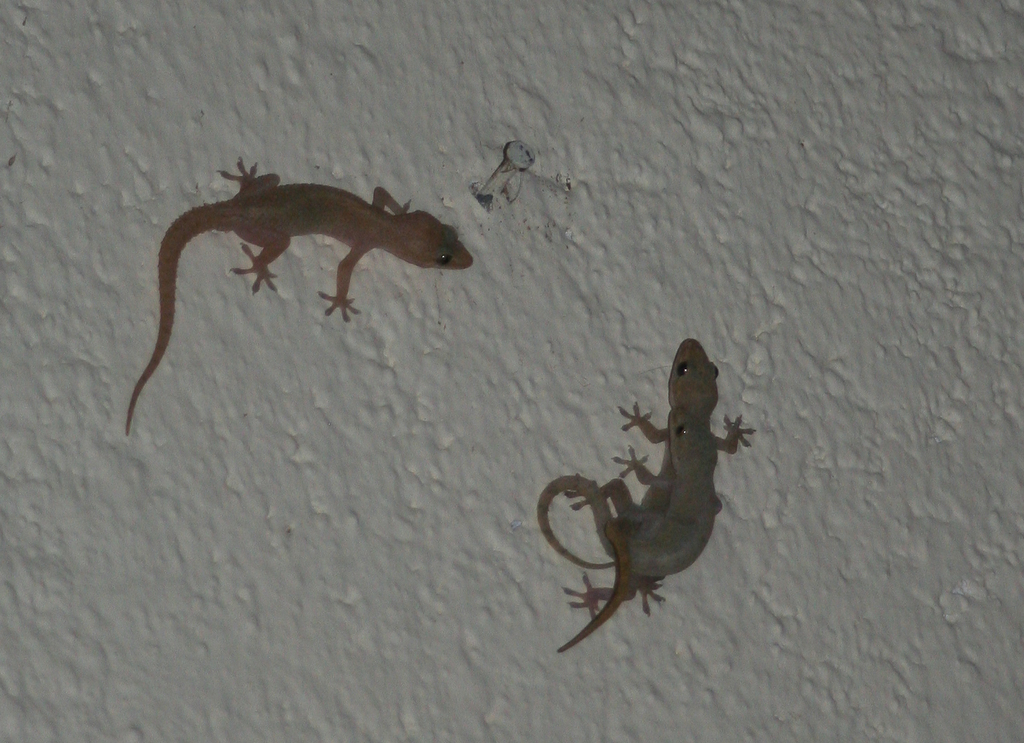person: (586, 338, 723, 592)
